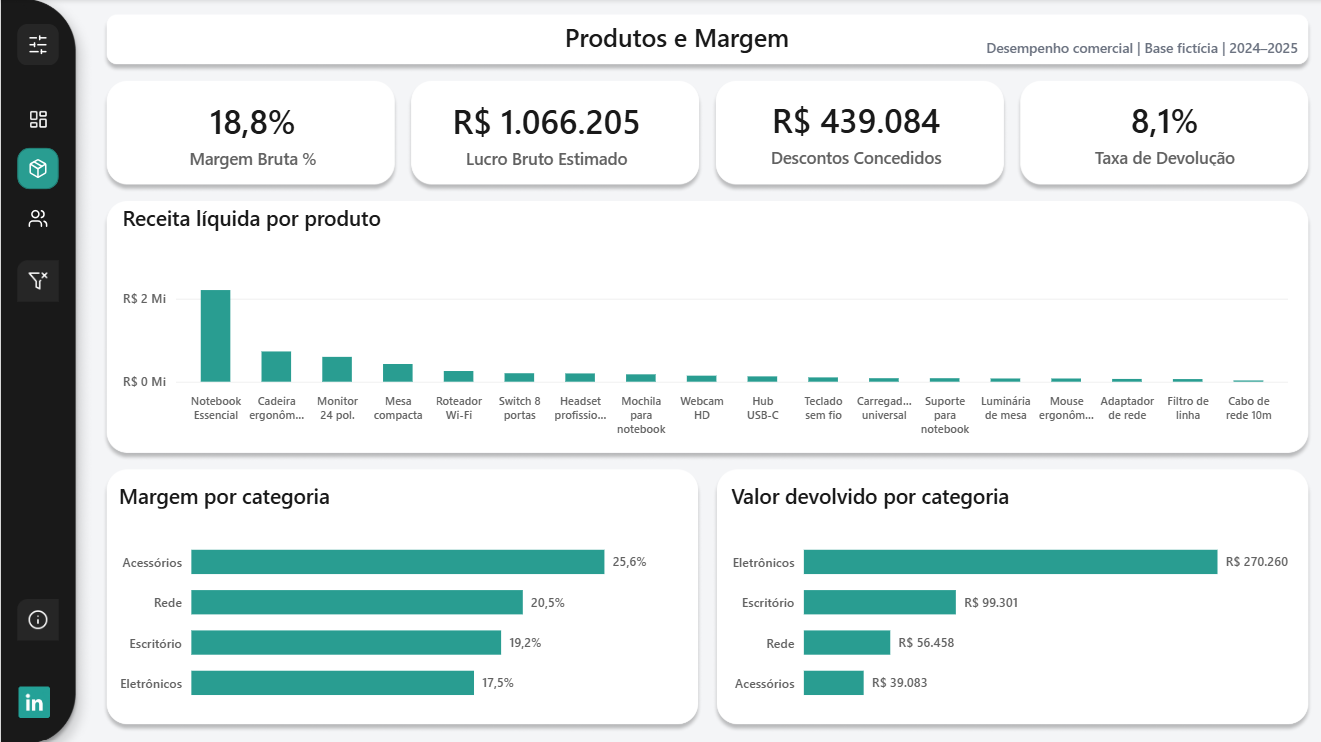

Layout of this report page (visuals, bound fields, positions):
{"tool":"powerbi","page":{"name":"Produtos e Margem","canvas":[1280,720],"ordinal":1},"visuals":[{"type":"card","fields":{"Values":["_Medidas.Descontos Concedidos"]},"box":[697.3,80.8,256,96],"z":0},{"type":"shape","title":"btn_ativo","box":[16,144,40,40],"z":0,"group":"g1"},{"type":"image","title":"btn_abrir","box":[16,24,40,40],"z":1000,"group":"g1"},{"type":"clusteredBarChart","title":"Margem por categoria","fields":{"Category":["DimProdutos.Categoria"],"Y":["_Medidas.Margem Bruta %"]},"box":[97.1,451.4,570,253.6],"z":1000},{"type":"clusteredColumnChart","title":"Receita líquida por produto","fields":{"Category":["DimProdutos.Produto"],"Y":["_Medidas.Receita Liquída"]},"box":[101.2,183.8,1157.1,256.6],"z":2000},{"type":"image","title":"nav_3","box":[16,192,40,40],"z":2000,"group":"g1"},{"type":"card","fields":{"Values":["_Medidas.Lucro Bruto Estimado"]},"box":[384.9,73.6,283.4,112.1],"z":3000},{"type":"image","title":"nav_2","box":[16,144,40,40],"z":3000,"group":"g1"},{"type":"image","title":"nav_1","box":[16,96.5,40.4,39],"z":4000,"group":"g1"},{"type":"clusteredBarChart","title":"Valor devolvido por categoria","fields":{"Category":["DimProdutos.Categoria"],"Y":["_Medidas.Valor Devolvido"]},"box":[689,451.5,570.2,253.6],"z":4000},{"type":"textbox","box":[543.6,19.9,247.4,33.4],"z":5000},{"type":"card","fields":{"Values":["_Medidas.Taxa de Devolução"]},"box":[995.3,80.8,256,96],"z":6000},{"type":"card","fields":{"Values":["_Medidas.Margem Bruta %"]},"box":[101.3,73.6,283.4,112.1],"z":7000},{"type":"textbox","box":[935.1,37.4,316.7,29],"z":8000},{"type":"group","id":"g1","title":"botões_navegacao","box":[16,24,40.4,208],"z":10000},{"type":"image","title":"Linkedin","box":[16.7,663.3,30,30],"z":11000},{"type":"cardVisual","title":"qtd_filtros","fields":{"Data":["_Medidas.filtro"]},"box":[5,3,20,20],"z":13000},{"type":"image","box":[16,252,40,40],"z":14000},{"type":"image","title":"btn_sobre","box":[15.7,578.6,40,40],"z":15000}]}

Visuals, with their boxes on the page's 1280x720 design canvas (x1, y1, x2, y2). These are canvas units, not pixel positions in the 1321x742 screenshot, which may show the page scaled, cropped or inside an application window:
card - _Medidas.Descontos Concedidos: 697, 81, 953, 177
"btn_ativo" shape: 16, 144, 56, 184
"btn_abrir" image: 16, 24, 56, 64
"Margem por categoria" clusteredBarChart: 97, 451, 667, 705
"Receita líquida por produto" clusteredColumnChart: 101, 184, 1258, 440
"nav_3" image: 16, 192, 56, 232
card - _Medidas.Lucro Bruto Estimado: 385, 74, 668, 186
"nav_2" image: 16, 144, 56, 184
"nav_1" image: 16, 96, 56, 136
"Valor devolvido por categoria" clusteredBarChart: 689, 452, 1259, 705
textbox: 544, 20, 791, 53
card - _Medidas.Taxa de Devolução: 995, 81, 1251, 177
card - _Medidas.Margem Bruta %: 101, 74, 385, 186
textbox: 935, 37, 1252, 66
"botões_navegacao" group: 16, 24, 56, 232
"Linkedin" image: 17, 663, 47, 693
"qtd_filtros" cardVisual: 5, 3, 25, 23
image: 16, 252, 56, 292
"btn_sobre" image: 16, 579, 56, 619
